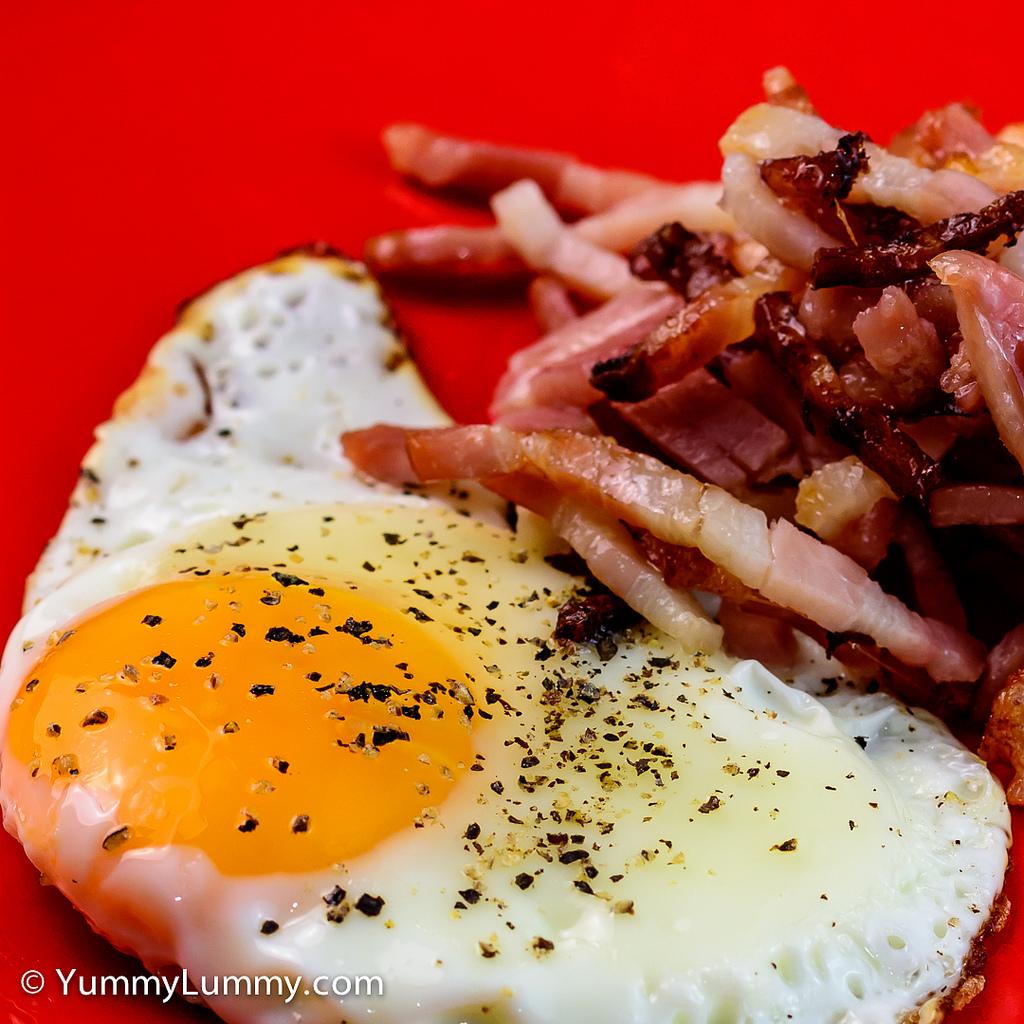fried egg: (30, 369, 903, 1024)
